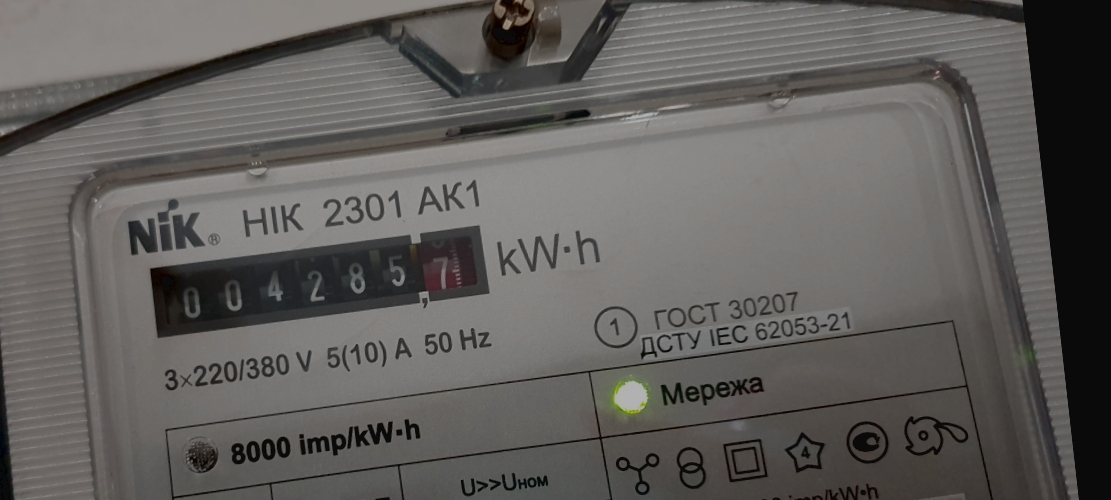0: (220, 275, 246, 314), (179, 282, 203, 320)
2: (304, 266, 327, 304)
4: (264, 267, 285, 303)
5: (384, 250, 409, 288)
7: (429, 253, 453, 291)
8: (343, 258, 369, 297)
screen: (132, 212, 506, 352)
